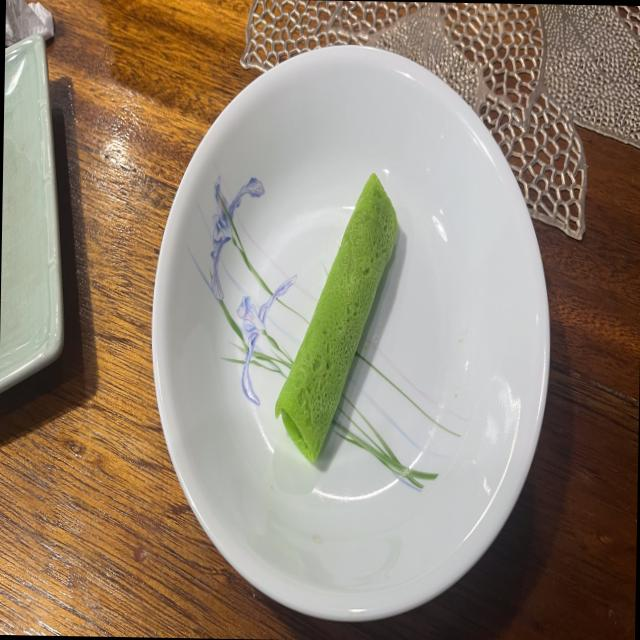Kuih-Ketayap: (275, 174, 398, 462)
